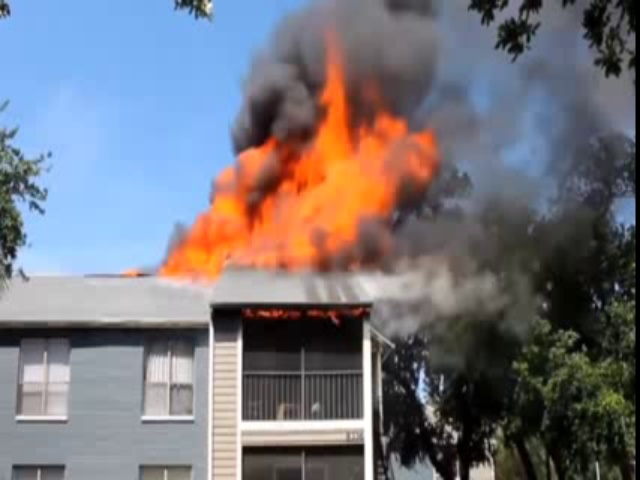fire: (171, 82, 433, 274)
